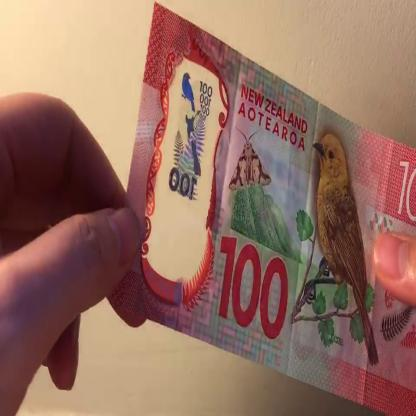100B: (164, 70, 216, 257)
